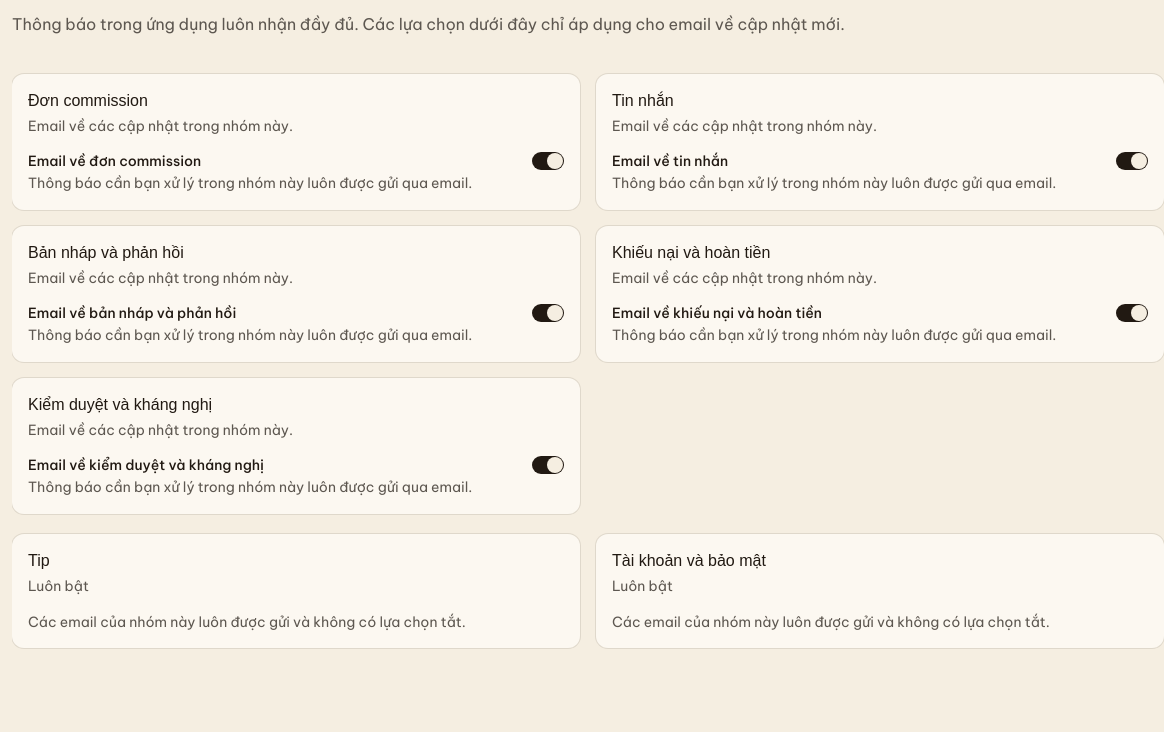
Test case: preferences show informational switches, always-on rows and save one category at a time
The image size is (1164, 732).
Click the switch named "Email về đơn commission" at (548, 161), box [532,152,564,170]
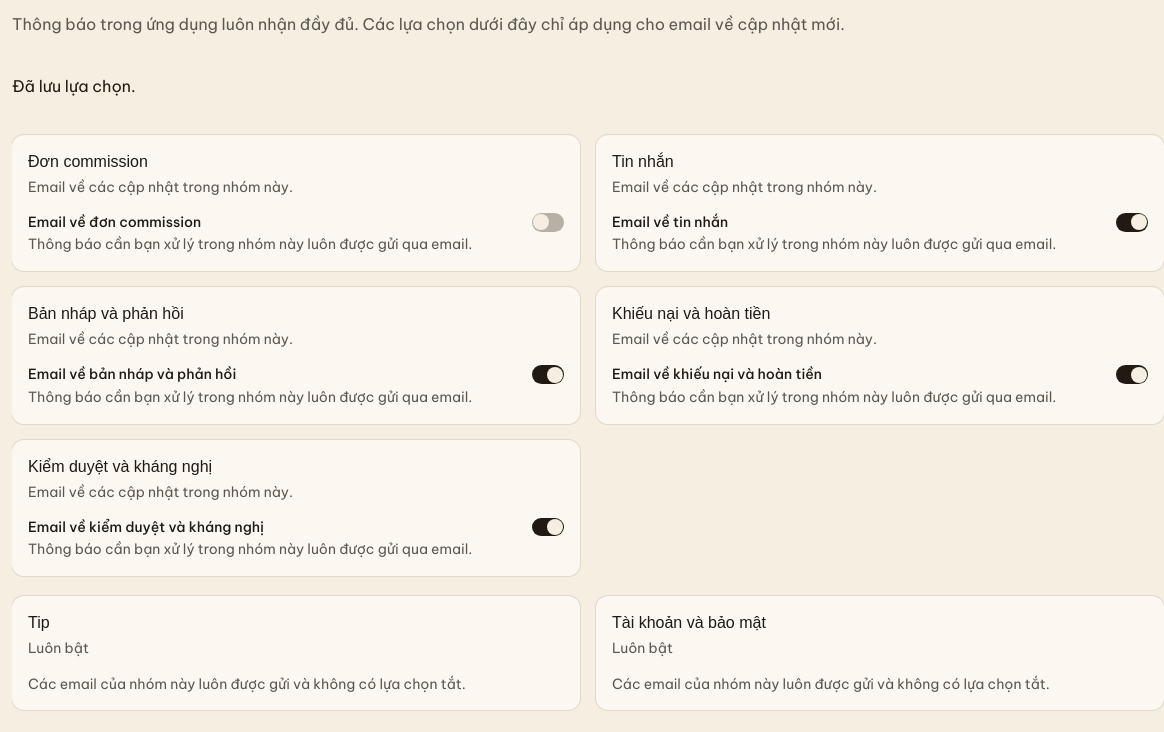
Result: the switch named "Email về đơn commission" is not checked
Click the switch named "Email về đơn commission" at (548, 222), box [532,213,564,232]
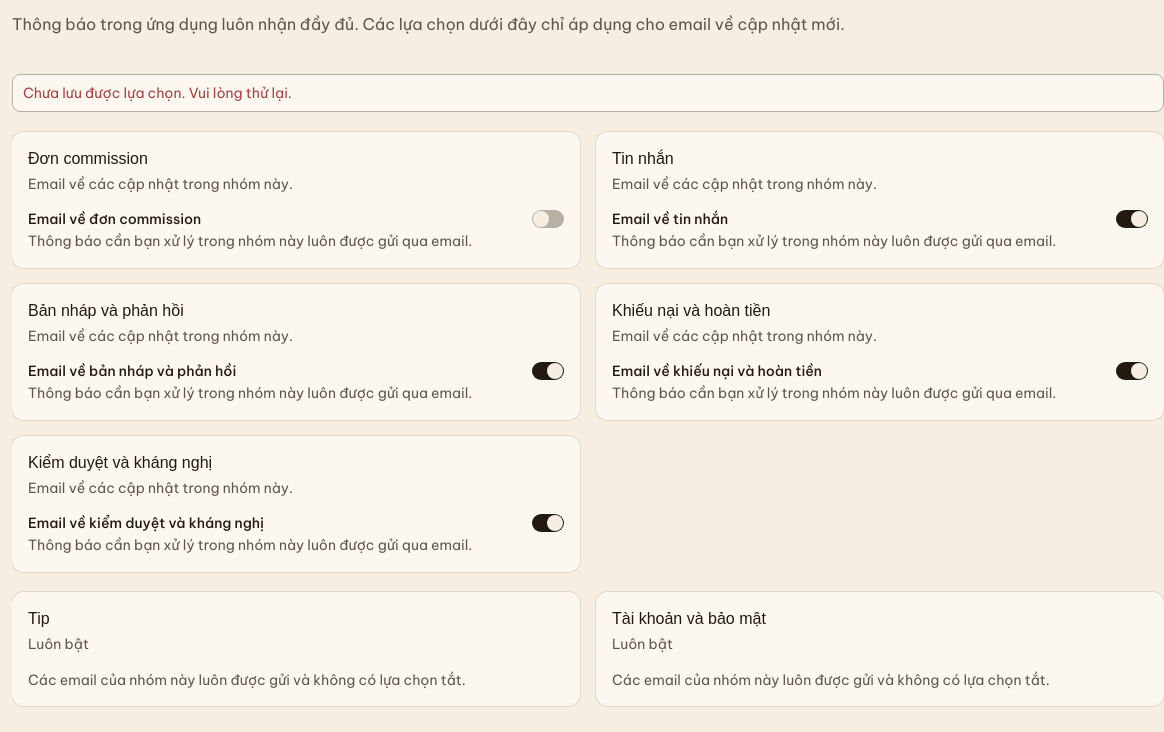
Result: the message "Chưa lưu được lựa chọn. Vui lòng thử lại." is shown at [12,74,1163,112]
